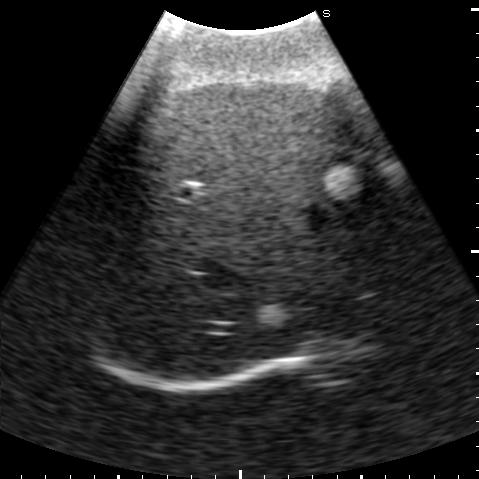S5: (140, 79, 379, 213)
S7: (89, 185, 189, 368)
S8: (188, 202, 402, 378)
Tumor: (323, 165, 355, 196), (259, 305, 286, 327)
